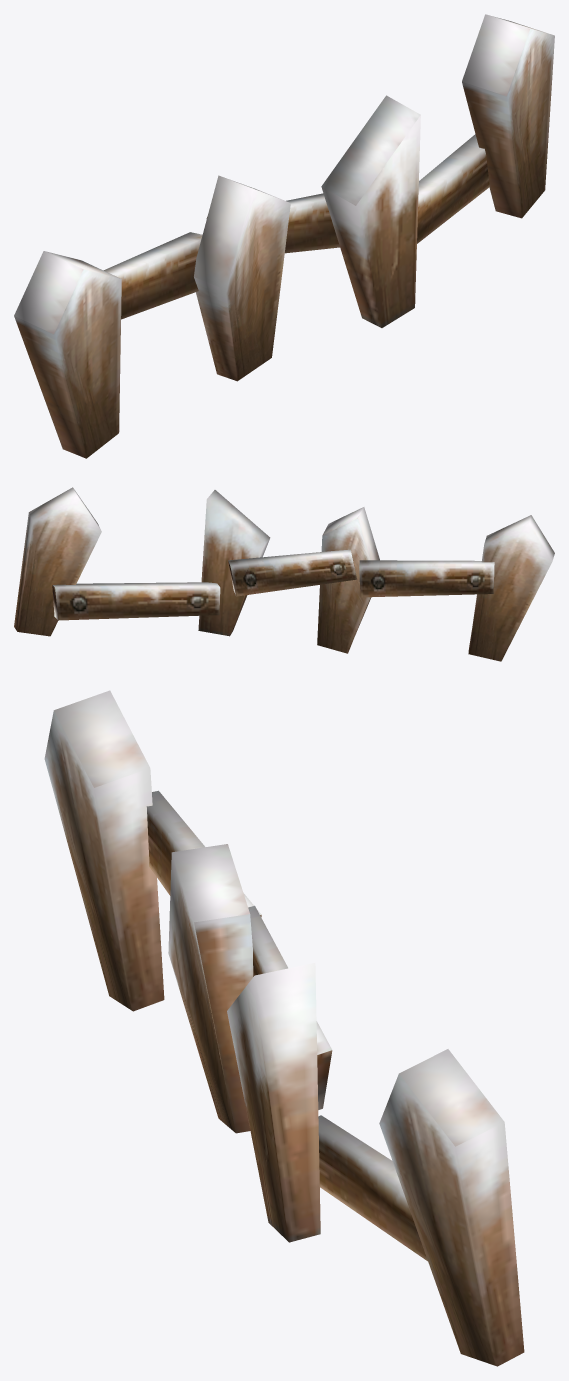
File: SM_Enclosure_13.fbx
3 views of the same model, one above another, from view 1: azimuth 30°, elevation 25°; view 2: azimuth 150°, elevation 25°; view 3: azimuth 270°, elevation 25° (orthographic). The views are drawn at different scales.
Visible parts, largest first — view 1: SM_Enclosure_13; view 2: SM_Enclosure_13; view 3: SM_Enclosure_13.
Part boxes in pixels (x1,y1,x2,y2): SM_Enclosure_13: [14, 14, 554, 458]; SM_Enclosure_13: [14, 487, 554, 661]; SM_Enclosure_13: [44, 690, 524, 1366].
Size of the model in its own units: 3.47 by 1.06 by 1.64.
